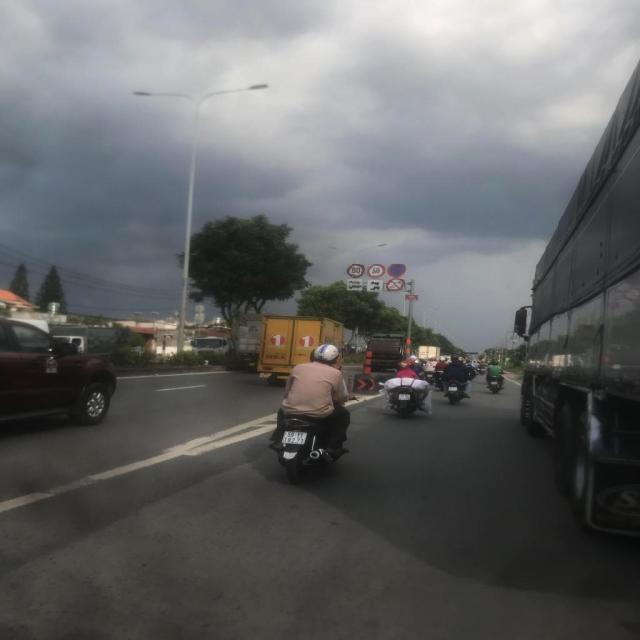cam_dung_xe_va_do_xe: (386, 264, 407, 279)
cam_xe_2_banh_va_xe_3_banh_co_dong_co: (386, 279, 405, 293)
khac: (346, 284, 362, 290), (367, 286, 383, 292), (367, 280, 382, 286), (346, 279, 362, 284)
toc_do_toi_da_60: (366, 264, 386, 279)
toc_do_toi_da_80: (346, 264, 365, 278)
